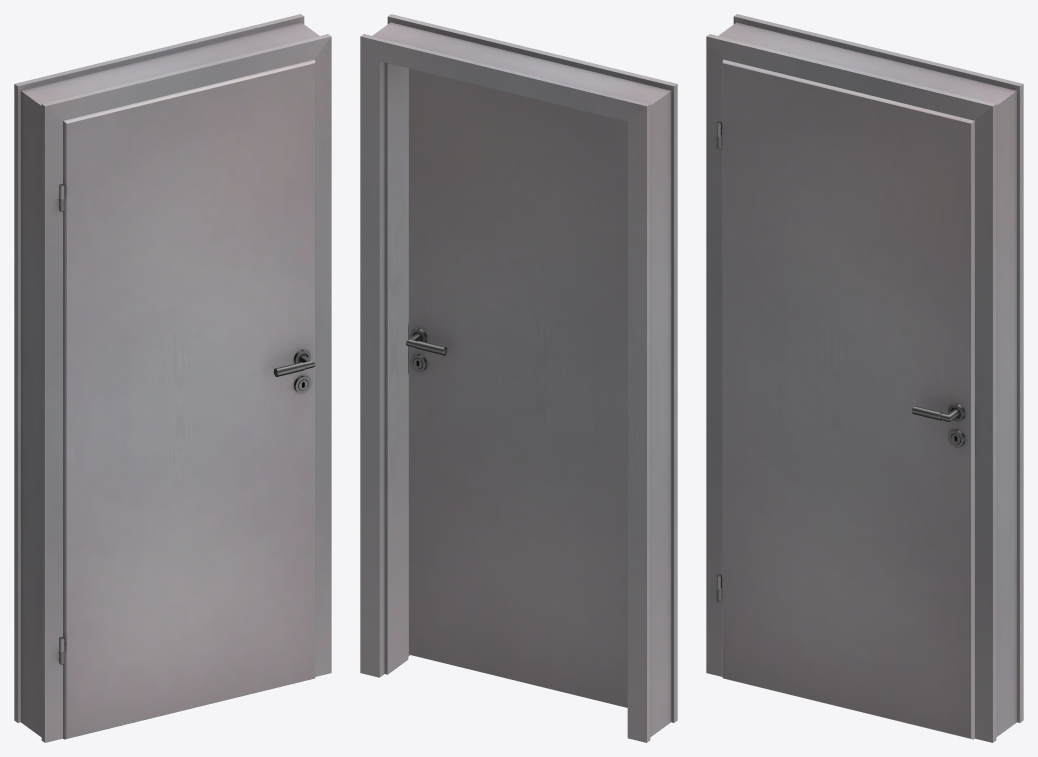
Rendered from door_with_frame_witnessk.glb.
The picture shows the model from 3 angles, left to right: view 1: azimuth 30°, elevation 25°; view 2: azimuth 150°, elevation 25°; view 3: azimuth 330°, elevation 25°; orthographic projection.
Visible parts, largest first — view 1: Plane.002_Door_0, Plane.002_Glossy_0; view 2: Plane.002_Door_0, Plane.002_Glossy_0; view 3: Plane.002_Door_0, Plane.002_Glossy_0.
Boxes of the visible parts, box(x1,y1,x2,y2) form: Plane.002_Door_0: box(14, 14, 331, 742); Plane.002_Glossy_0: box(59, 184, 315, 664); Plane.002_Door_0: box(360, 14, 677, 742); Plane.002_Glossy_0: box(405, 328, 447, 371); Plane.002_Door_0: box(706, 14, 1023, 742); Plane.002_Glossy_0: box(716, 121, 965, 601).
Size of the model in its own units: 97 by 206 by 26.06.
Materials: 2 (2 with a texture image).
